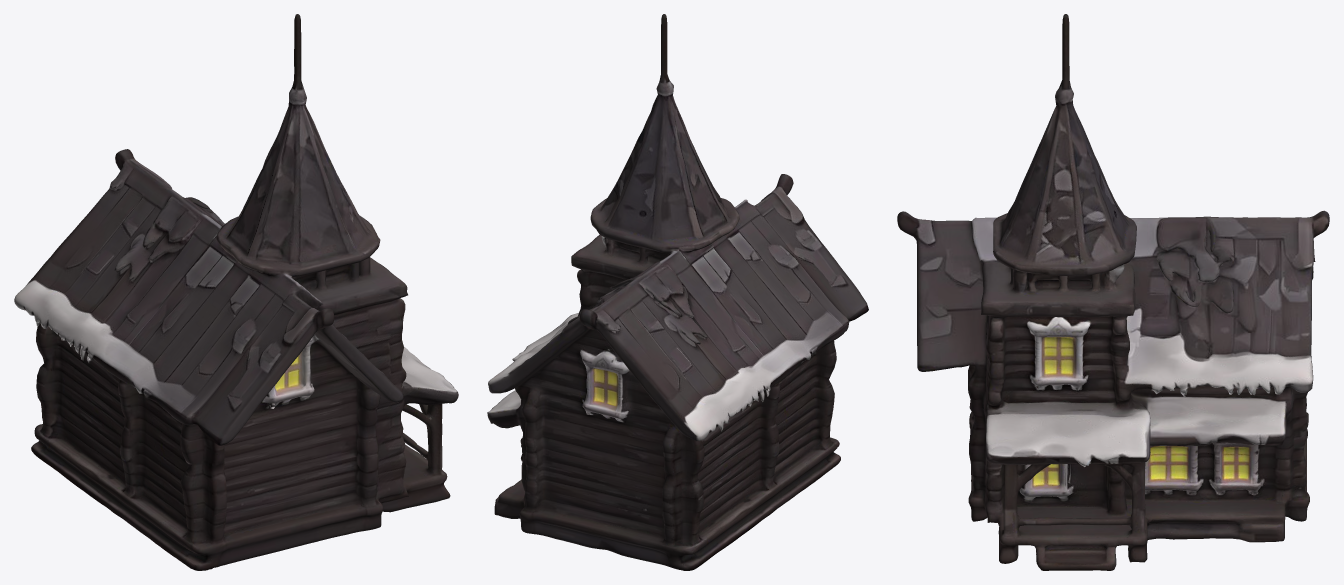
File: tomsk_wooden_tent.glb
3 views of the same model, side by side, from view 1: azimuth 30°, elevation 25°; view 2: azimuth 150°, elevation 25°; view 3: azimuth 270°, elevation 25° (orthographic). The views are drawn at different scales.
Parts seen in each view (by area): view 1: tripo_node_e0ebcb39-484c-4d1e-897f-12e5d37b5ed3; view 2: tripo_node_e0ebcb39-484c-4d1e-897f-12e5d37b5ed3; view 3: tripo_node_e0ebcb39-484c-4d1e-897f-12e5d37b5ed3.
Boxes of the visible parts, box(x1,y1,x2,y2) form: tripo_node_e0ebcb39-484c-4d1e-897f-12e5d37b5ed3: box(14, 14, 458, 570); tripo_node_e0ebcb39-484c-4d1e-897f-12e5d37b5ed3: box(487, 14, 868, 570); tripo_node_e0ebcb39-484c-4d1e-897f-12e5d37b5ed3: box(897, 14, 1329, 570).
Bounding box in the file's own units: 0.622 × 0.979 × 0.7811.
Materials: 1 (1 with a texture image).
